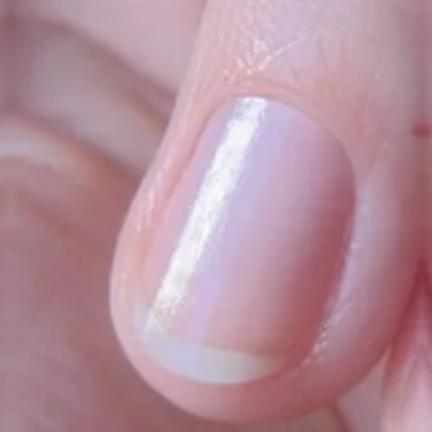Nail: (130, 94, 355, 384)
